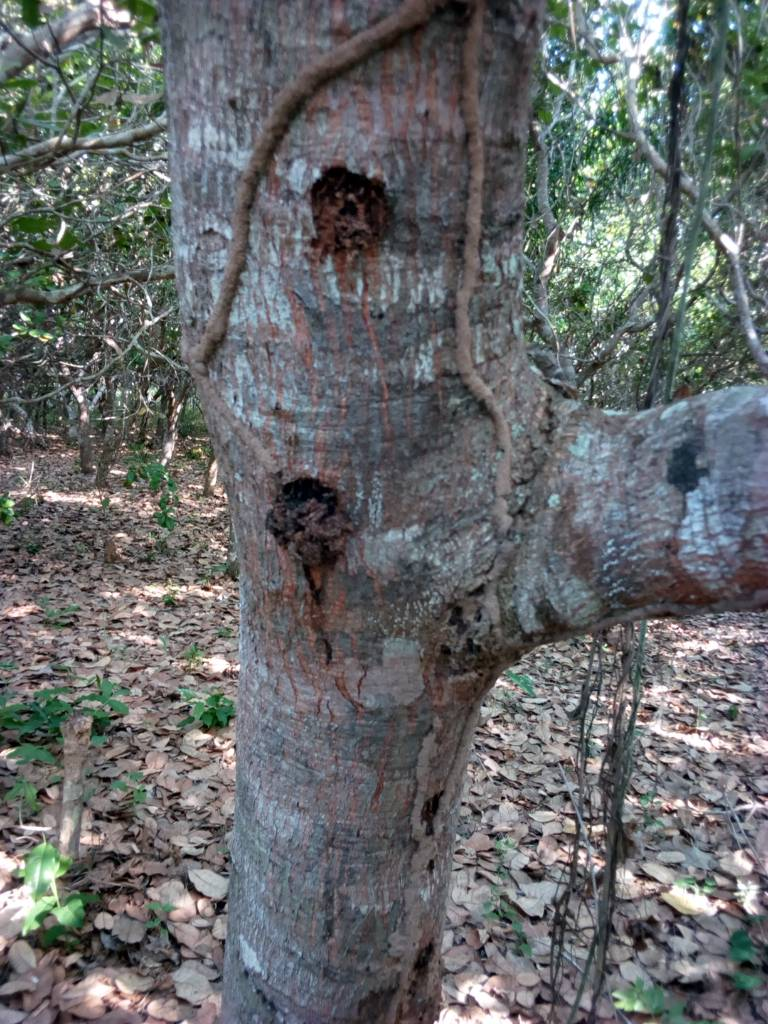Termites: (450, 41, 530, 541), (400, 657, 457, 1024), (275, 3, 444, 122), (185, 121, 254, 375), (215, 394, 296, 489)
